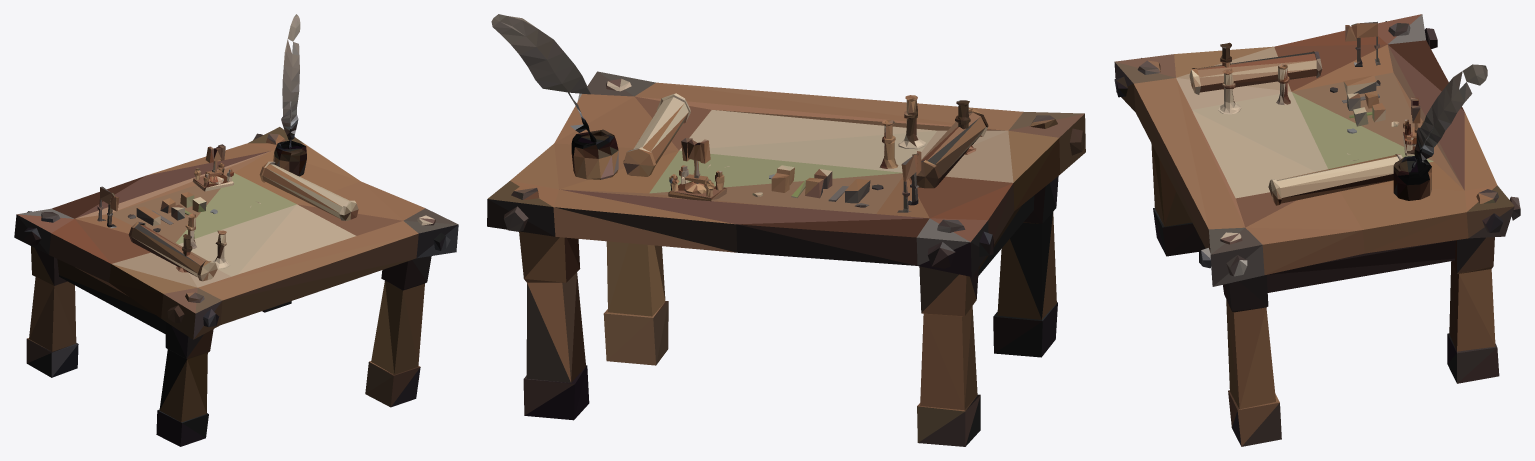
The model's file is Planning_Table.glb.
The picture shows the model from 3 angles, left to right: view 1: azimuth 30°, elevation 25°; view 2: azimuth 150°, elevation 25°; view 3: azimuth 270°, elevation 25°; orthographic projection. The views are drawn at different scales.
Visible parts, largest first — view 1: world; view 2: world; view 3: world.
Part boxes in pixels (x1=…): world: x1=14, y1=14, x2=458, y2=446; world: x1=487, y1=14, x2=1085, y2=446; world: x1=1114, y1=14, x2=1520, y2=446.
Size of the model in its own units: 0.4961 by 0.416 by 0.4121.
